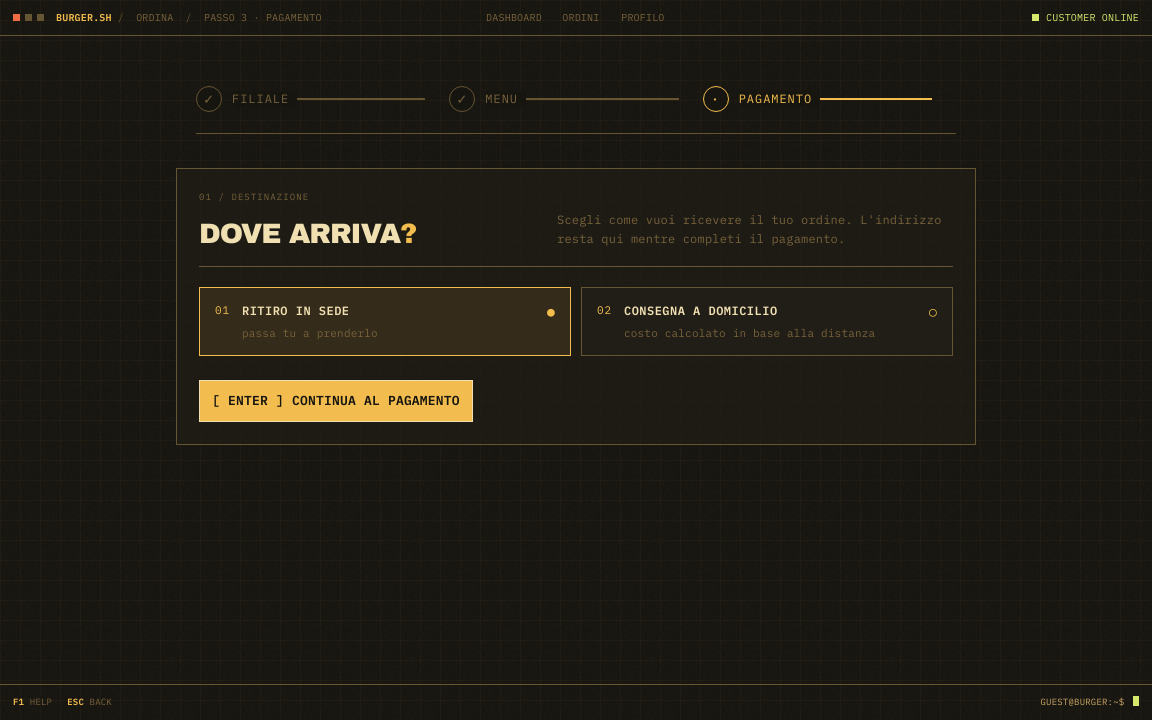
Test: OrderPaymentPage › passa dal ritiro al pagamento e poi al riepilogo
This screenshot has width=1152, height=720.
Expected: the heading "DOVE ARRIVA?" is shown, [199,218,416,249]
Click the button "[ enter ] continua al pagamento": (336, 401) [199,380,473,422]
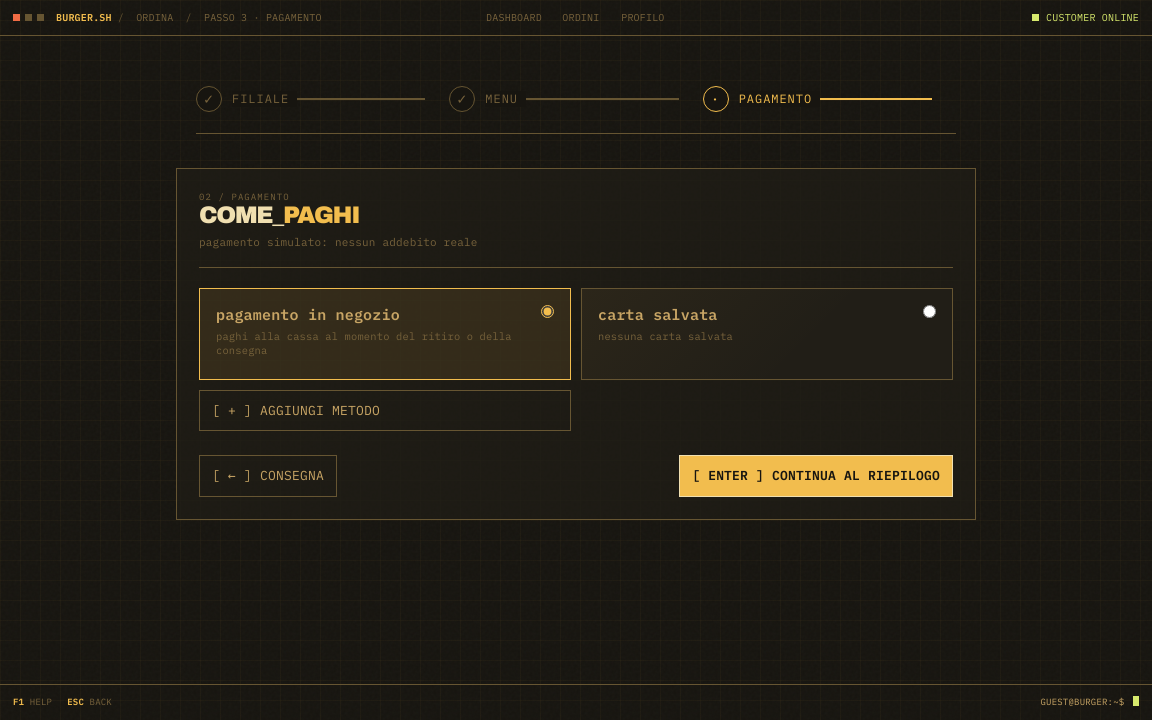
Expected: the heading "COME_PAGHI" is shown, [199,202,359,228]
Click the button "[ enter ] continua al riepilogo": (816, 476) [679,455,953,497]
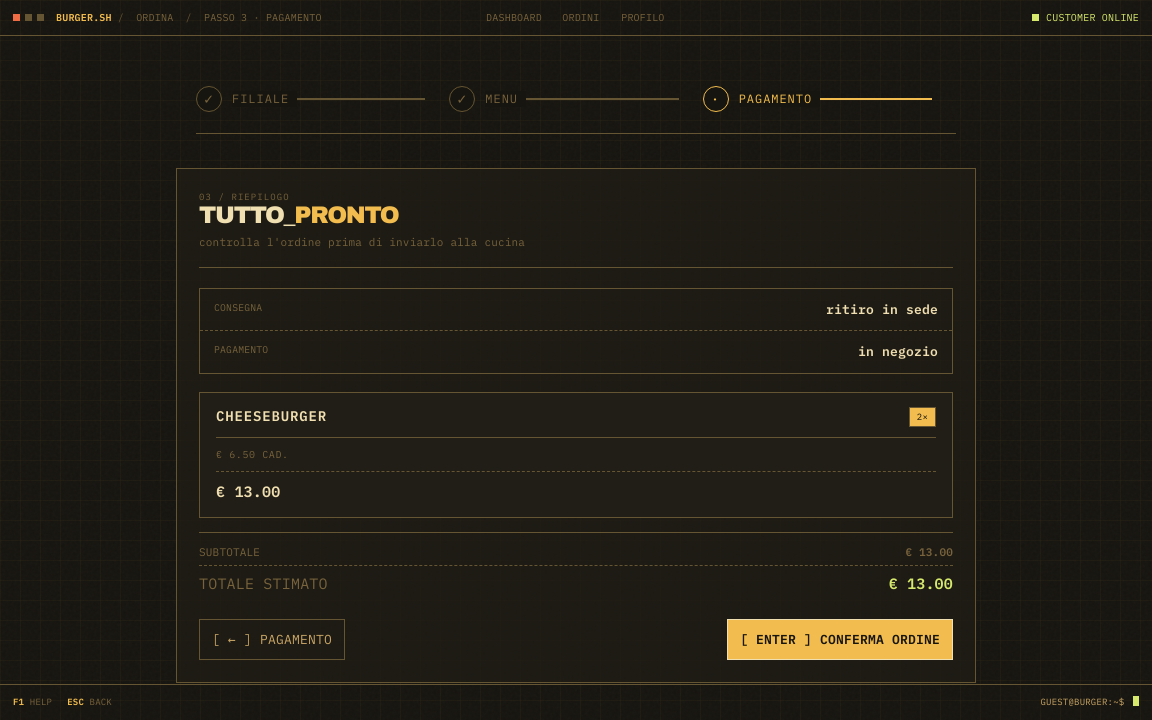
Expected: the heading "TUTTO_PRONTO" is shown, [199,202,398,228]
Expected: the text "totale stimato" is shown, [199,574,328,595]
